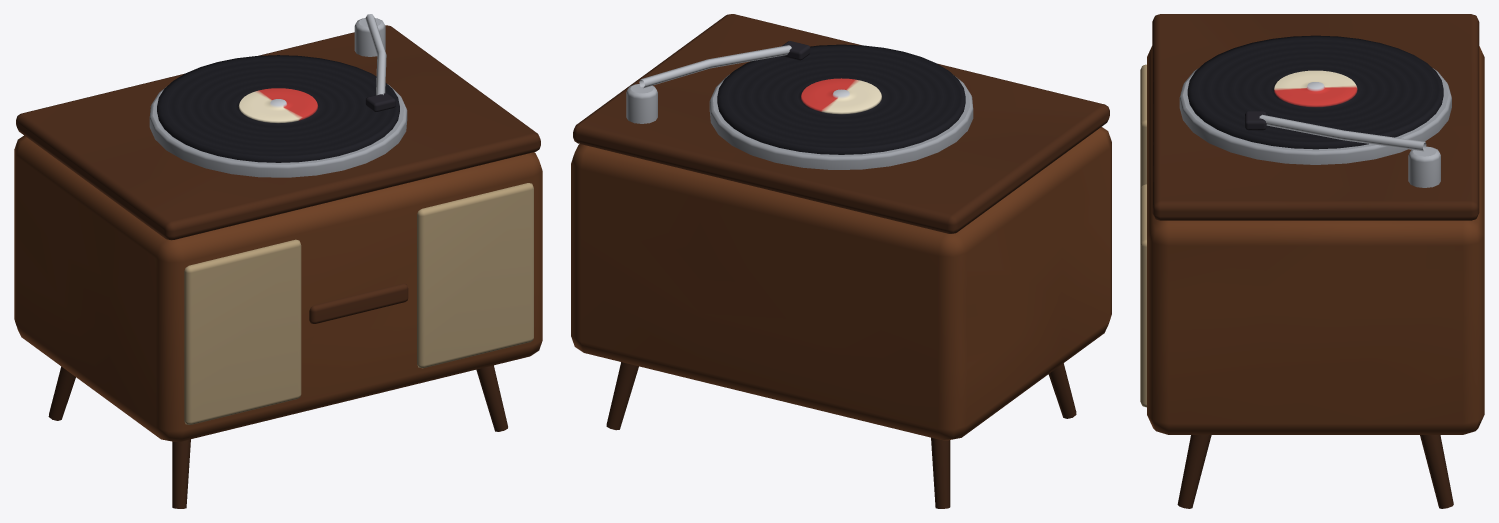
The model's file is furn_record_player.glb.
3 views of the same model, side by side, from view 1: azimuth 30°, elevation 25°; view 2: azimuth 150°, elevation 25°; view 3: azimuth 270°, elevation 25° (orthographic). The views are drawn at different scales.
Visible parts, largest first — view 1: furn_record_player_main, furn_record_player_move; view 2: furn_record_player_main, furn_record_player_move; view 3: furn_record_player_main, furn_record_player_move.
Part boxes in pixels (bbox=[...]): furn_record_player_main: bbox=[14, 14, 542, 508]; furn_record_player_move: bbox=[157, 55, 399, 162]; furn_record_player_main: bbox=[571, 14, 1111, 508]; furn_record_player_move: bbox=[717, 44, 965, 154]; furn_record_player_main: bbox=[1140, 14, 1484, 508]; furn_record_player_move: bbox=[1187, 35, 1443, 149].
Size of the model in its own units: 0.86 by 0.7215 by 0.632.
